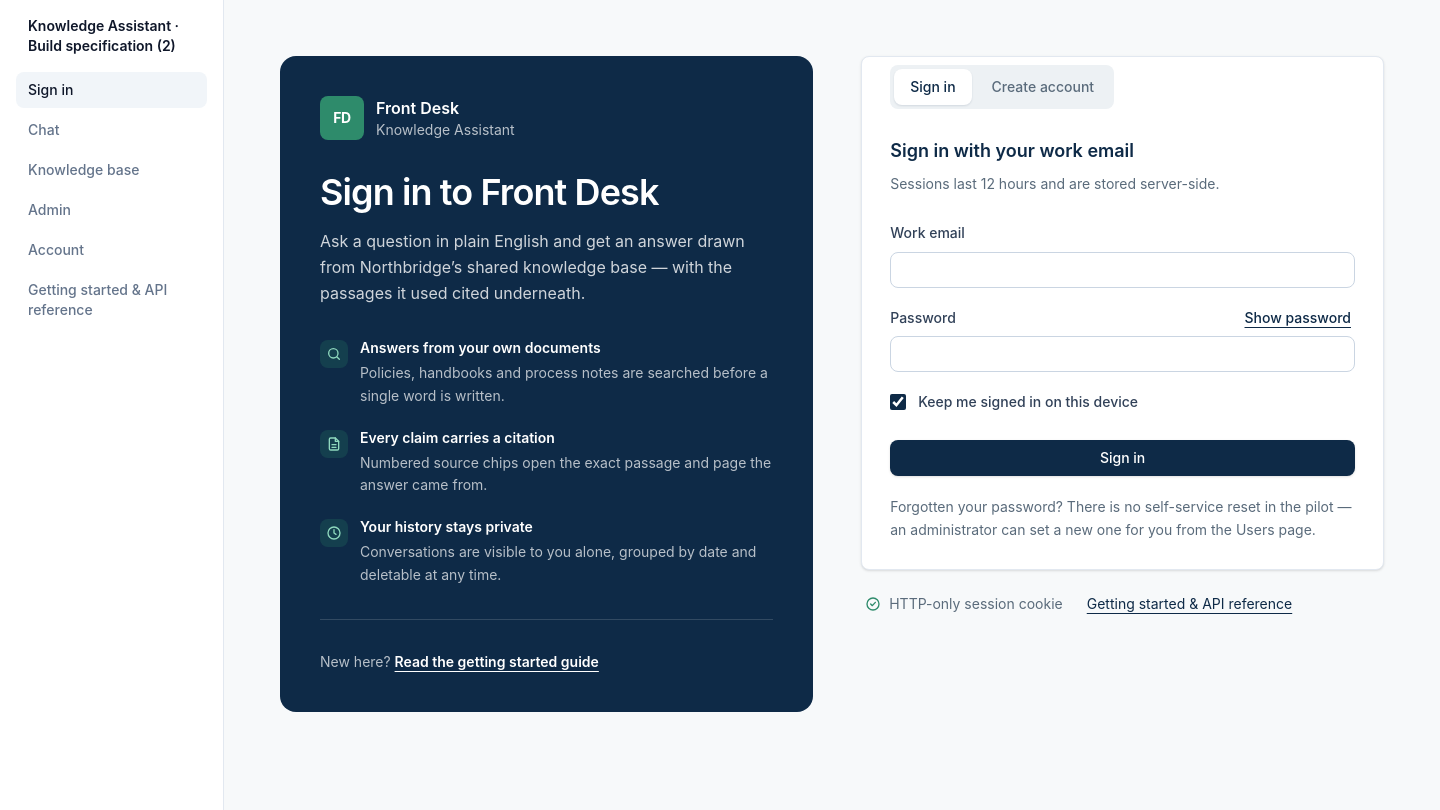
Test: SignIn › shows the server's duplicate-email error on signup
Click the tab "Create account" at (1043, 87), box [976,69,1110,105]
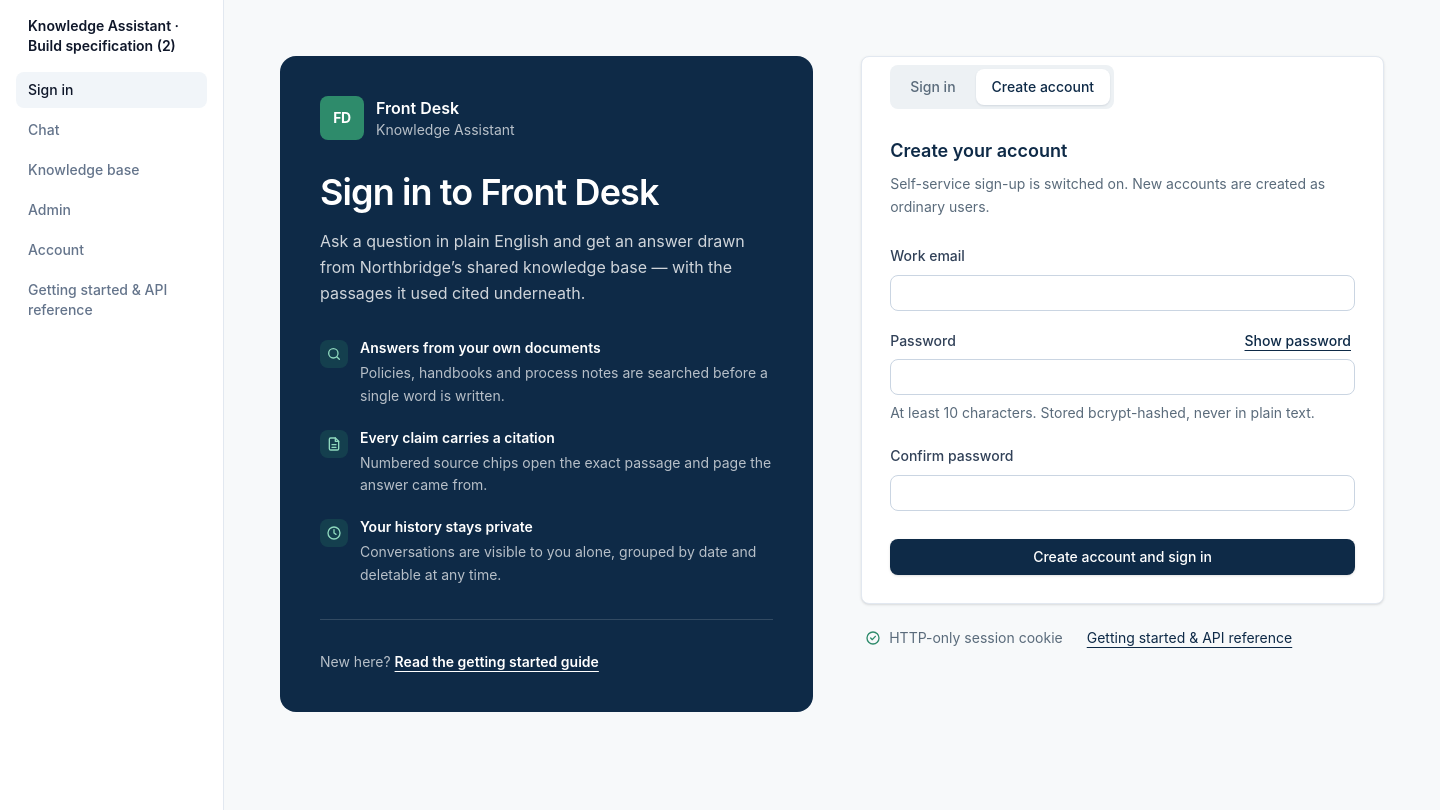
Type "ada@northbridge.co.uk" into the field labelled "Work email" at (1123, 292), box [890,274,1355,310]
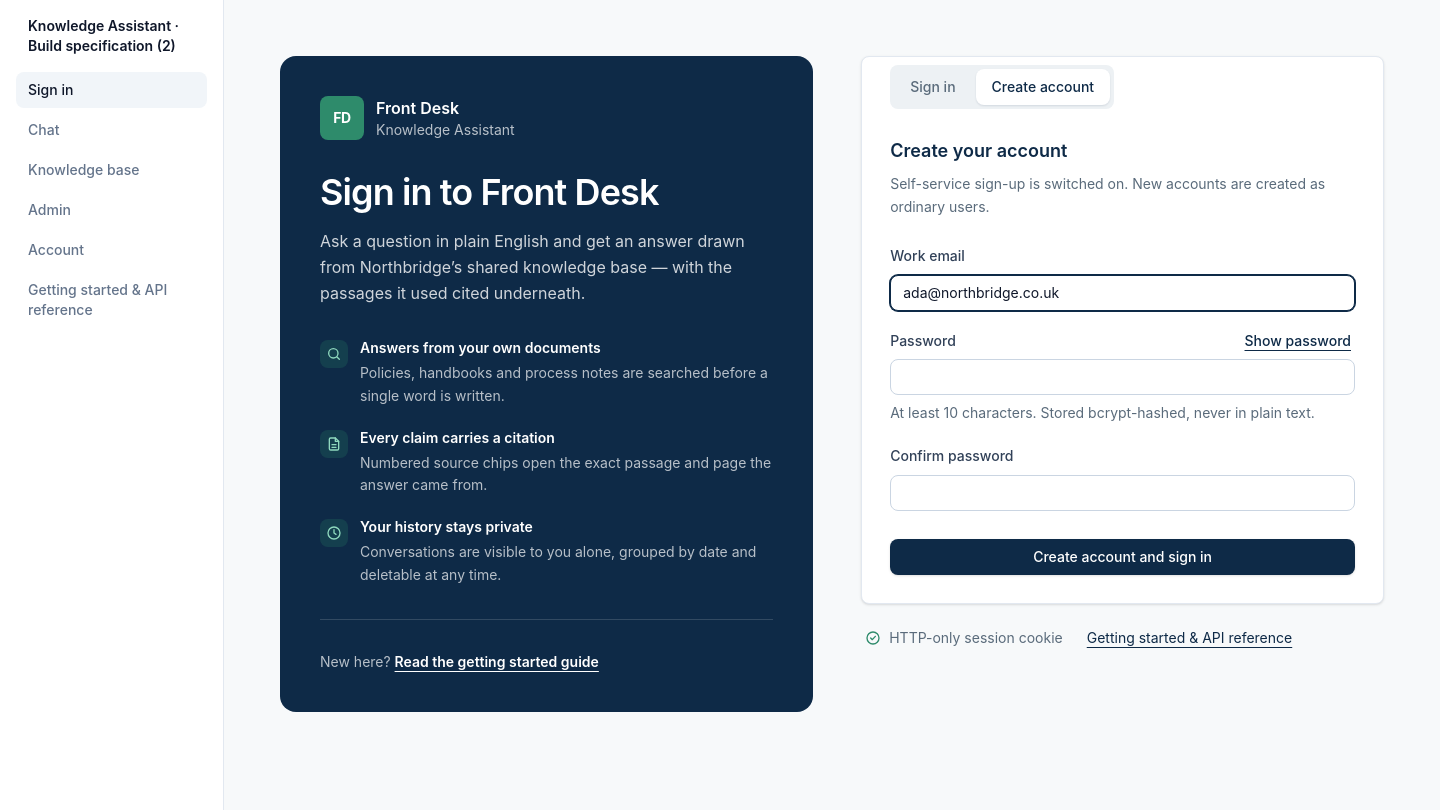
Type "supersecret1" into the password field labelled "Password" at (1123, 376), box [890,358,1355,394]
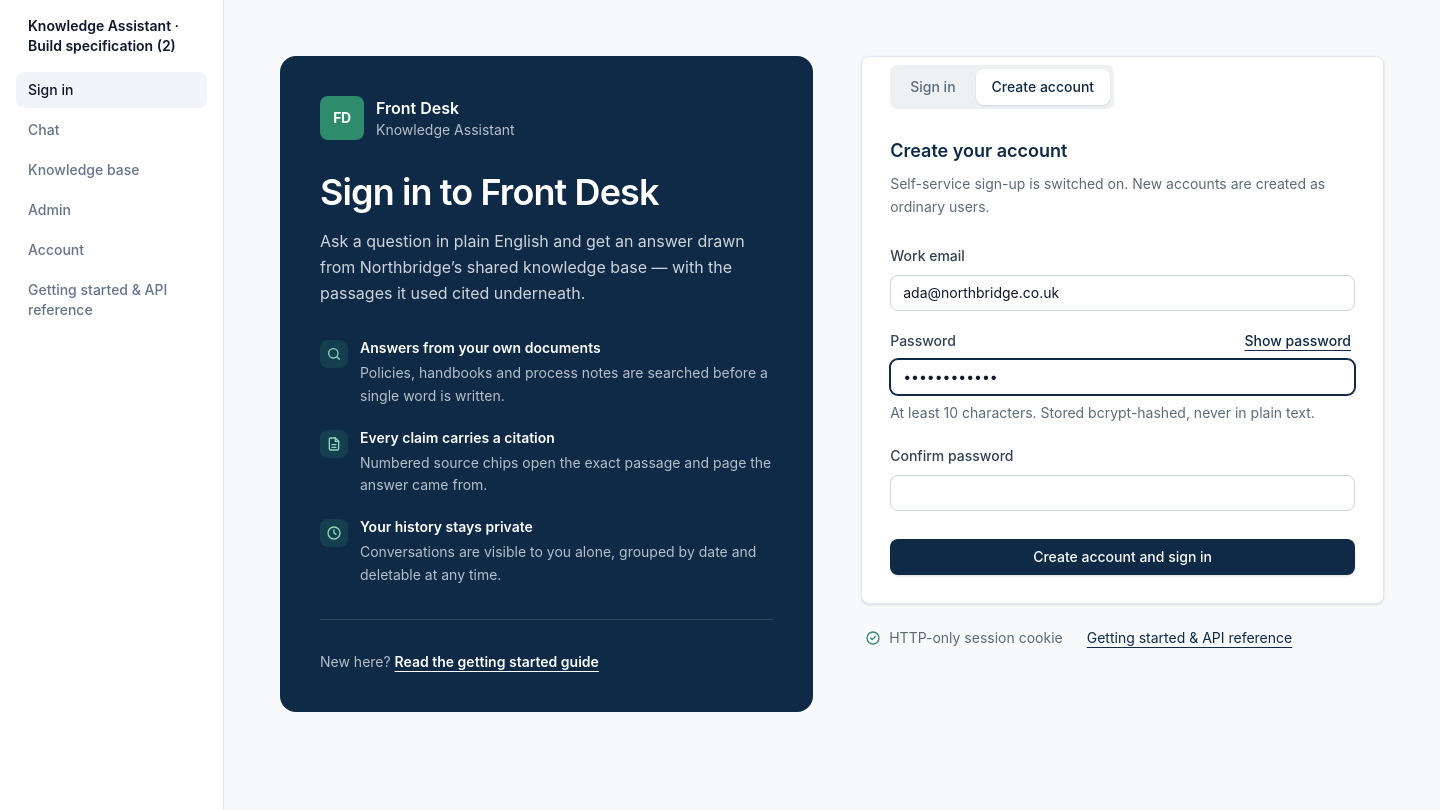
Type "supersecret1" into the password field labelled "Confirm password" at (1123, 492), box [890,474,1355,510]
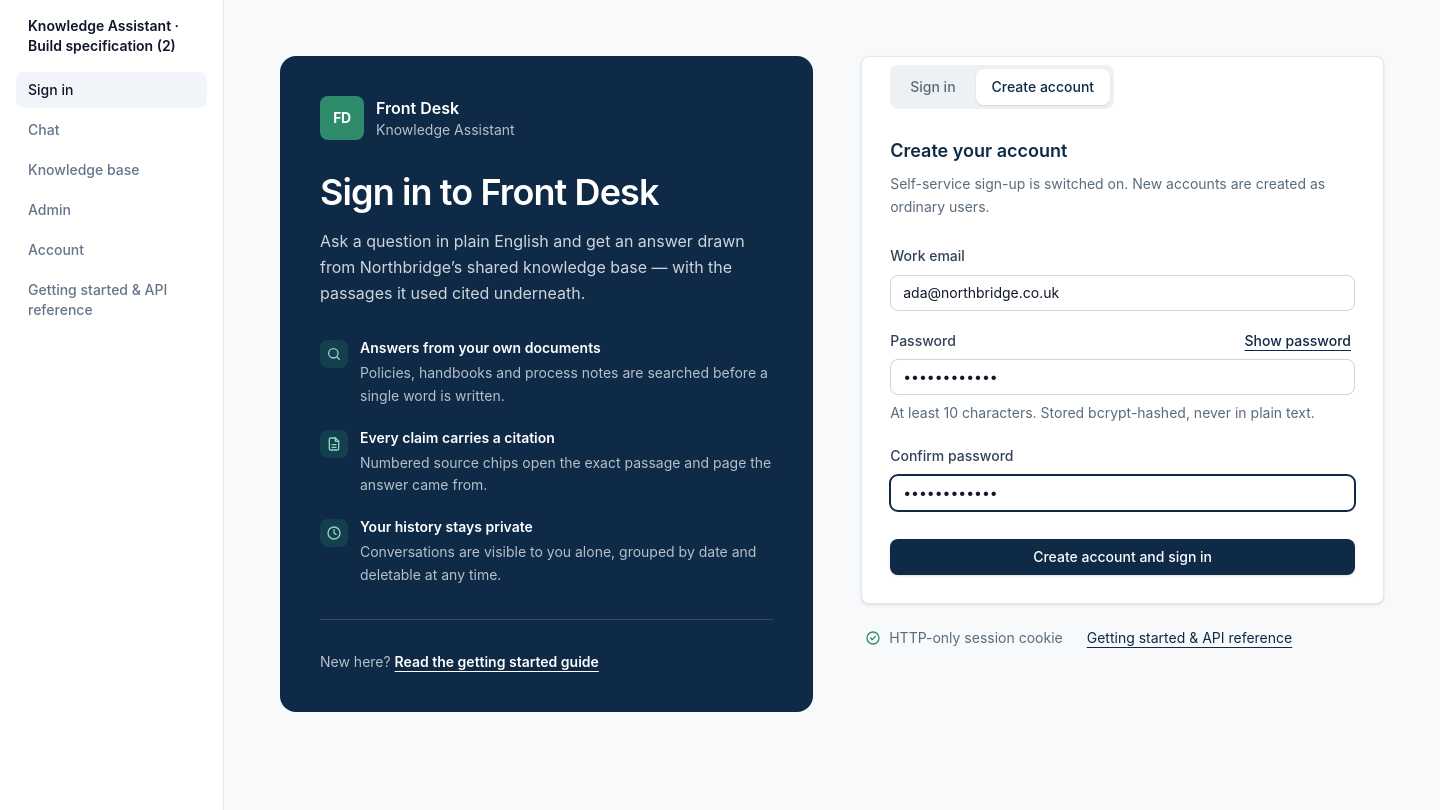
Click the button "Create account and sign in" at (1123, 556), box [890,538,1355,574]
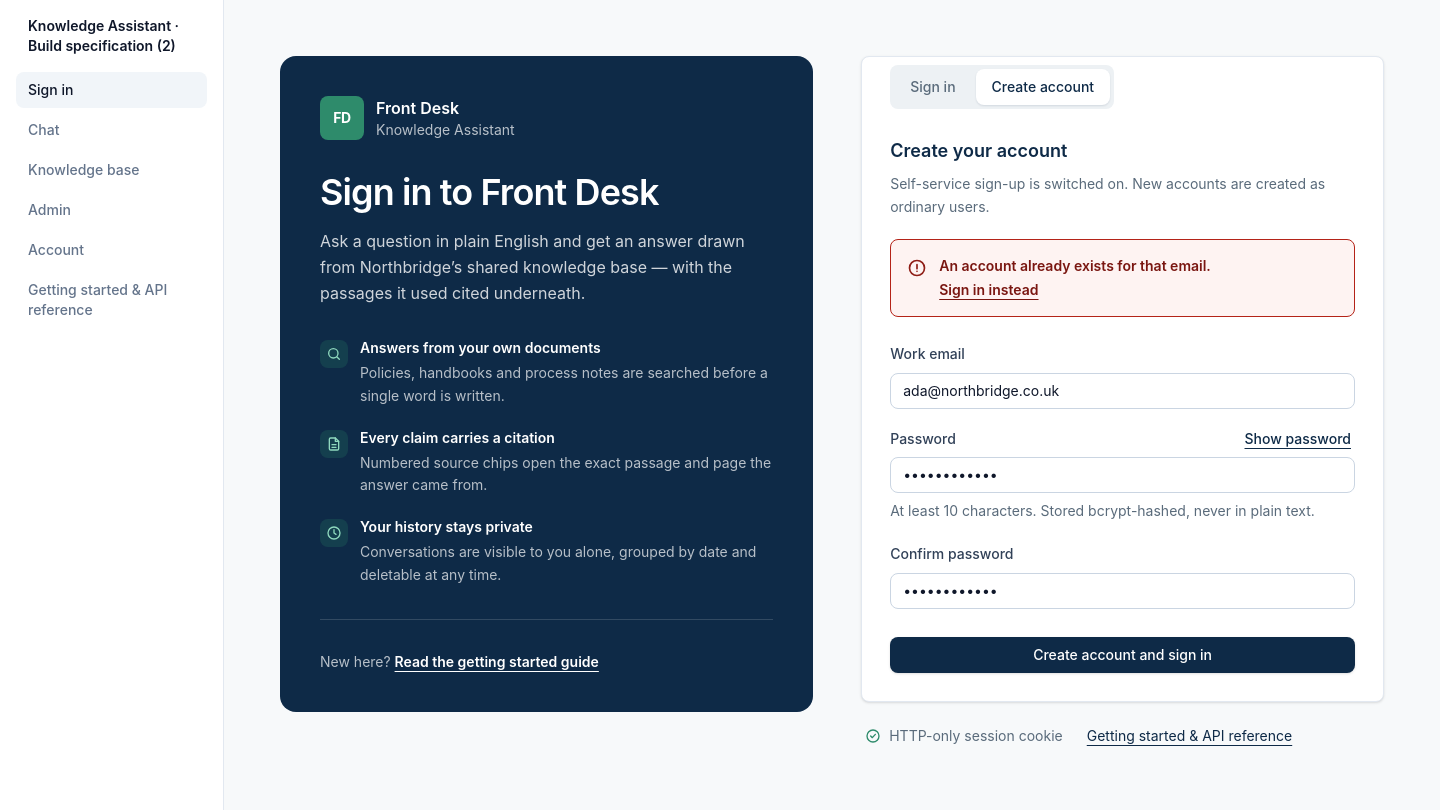
Check: the message shows "An account already exists for that email.", box [939,256,1211,274]
